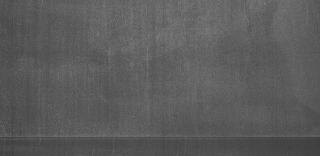welding line: (3, 132, 320, 147)
